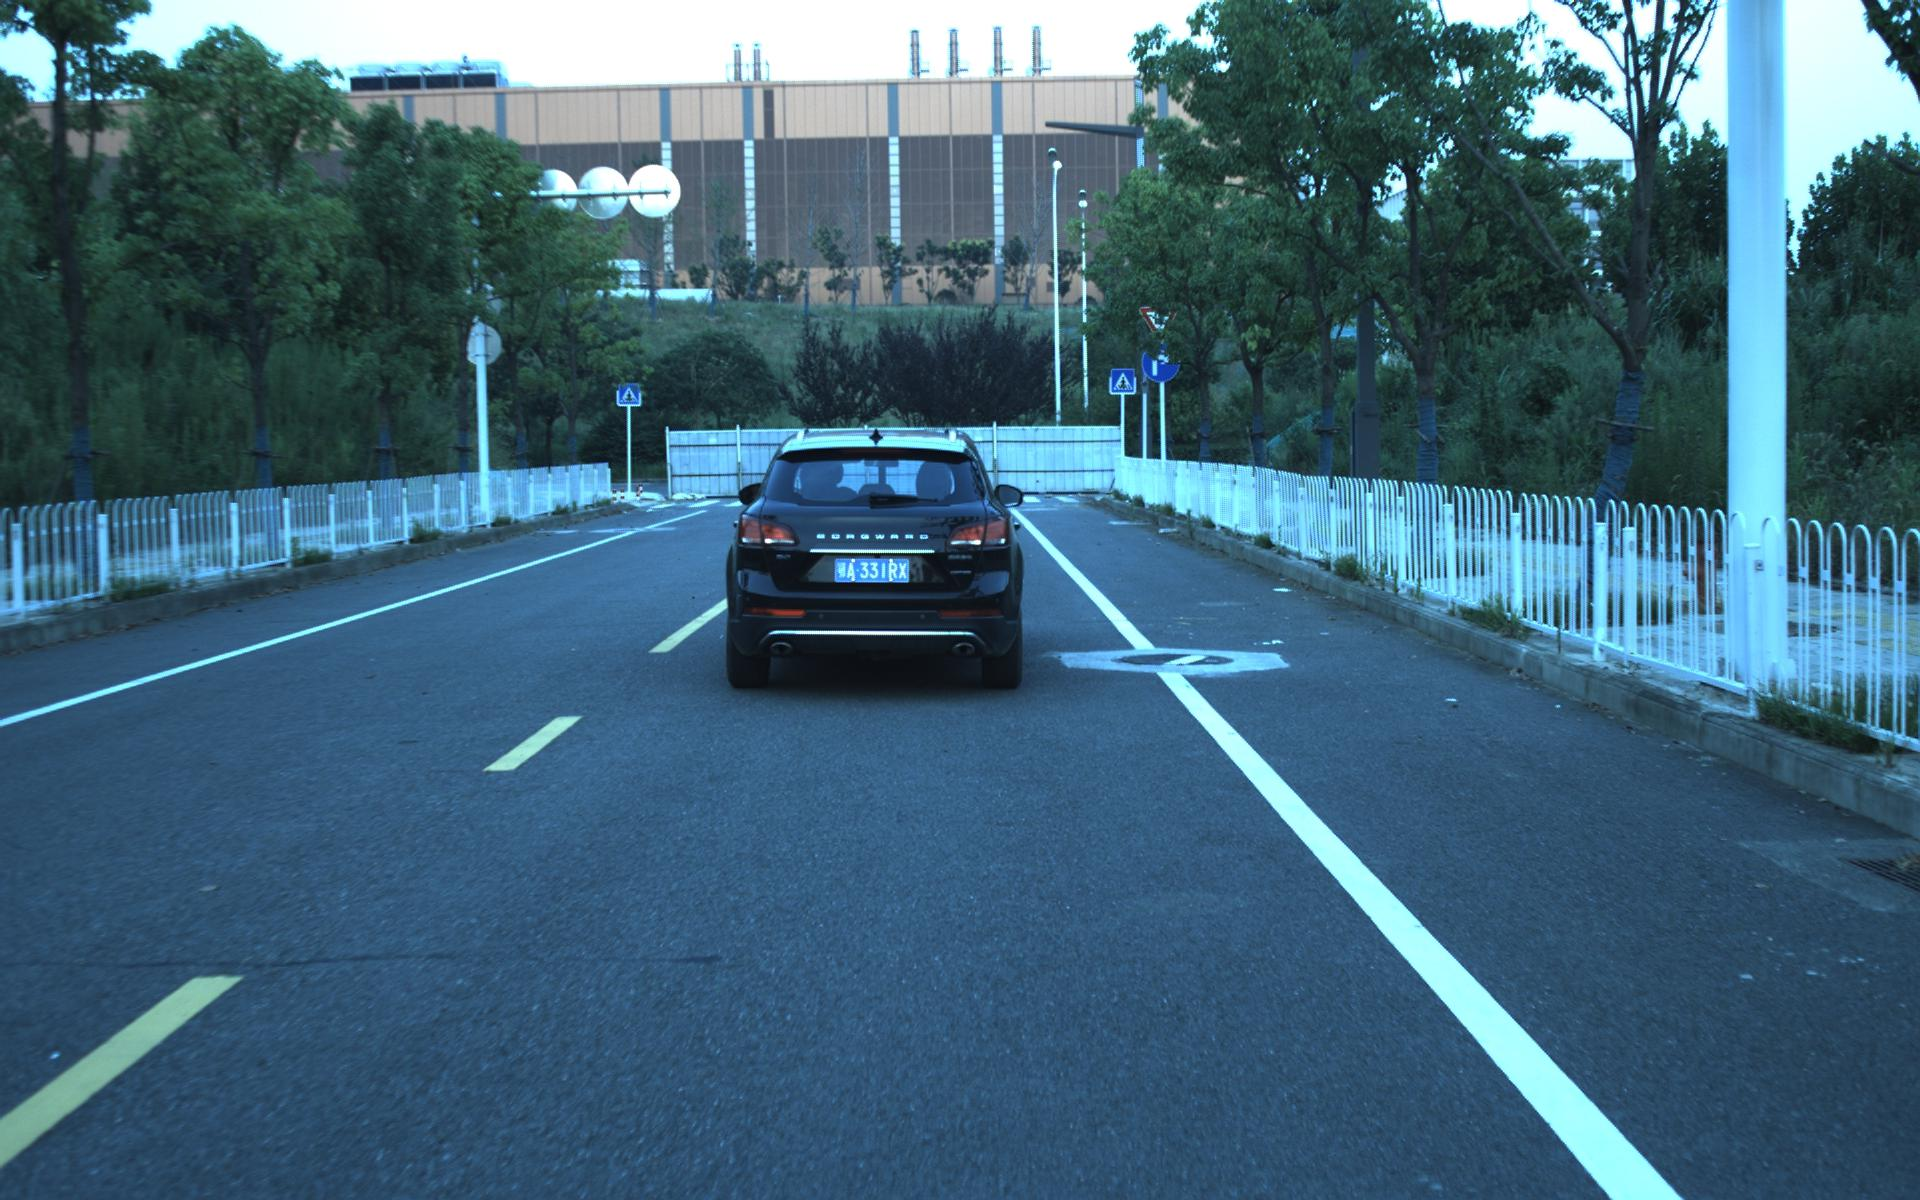Car: (723, 418, 1026, 693)
